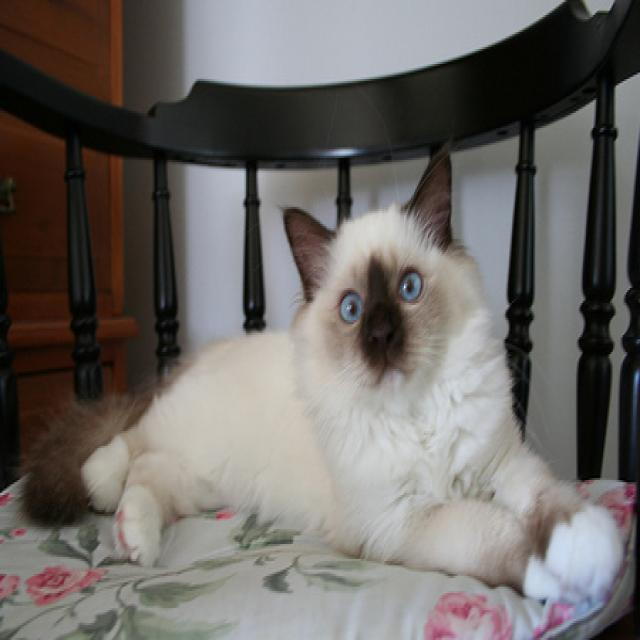Birman: (26, 137, 624, 607)
